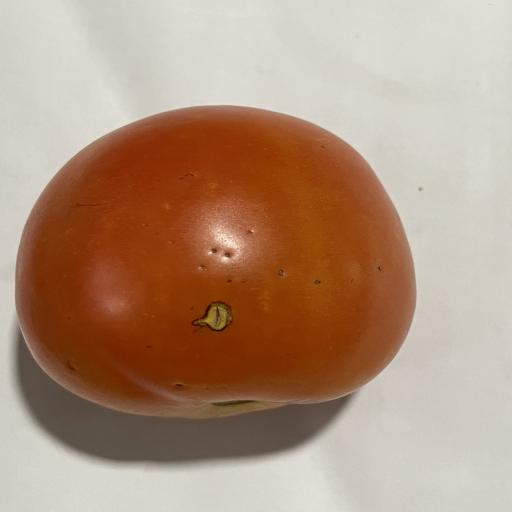ripe: (16, 106, 415, 418)
